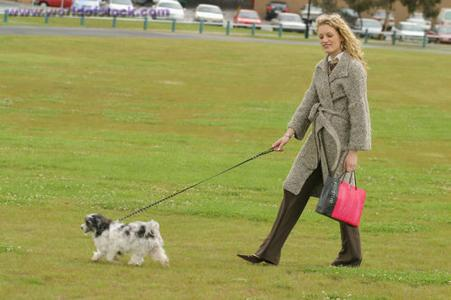person: (238, 15, 374, 268)
